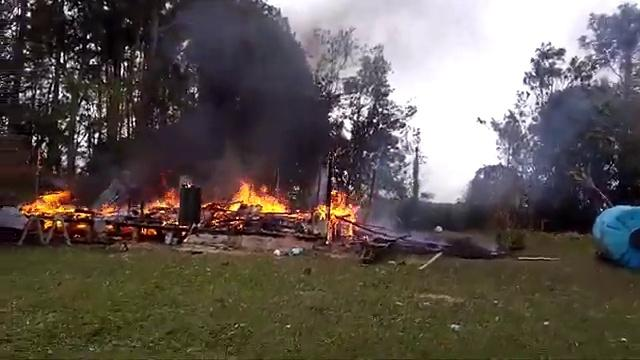fire: (237, 191, 282, 212), (32, 195, 69, 218), (320, 202, 350, 218)
smoke: (210, 25, 294, 156)
